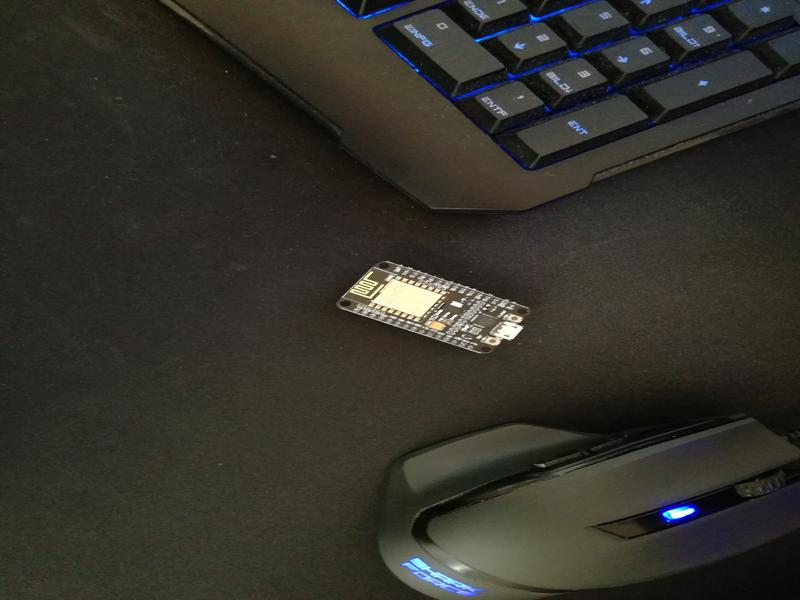ESP8266: (332, 259, 538, 357)
